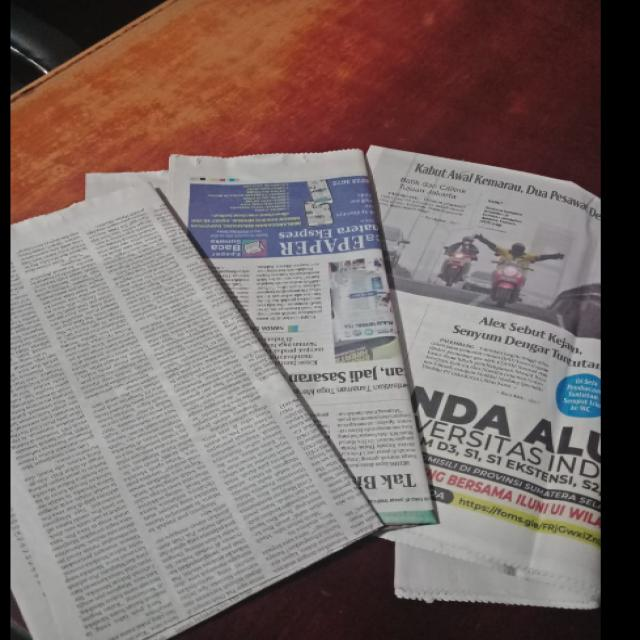Koran: (14, 145, 594, 622)
